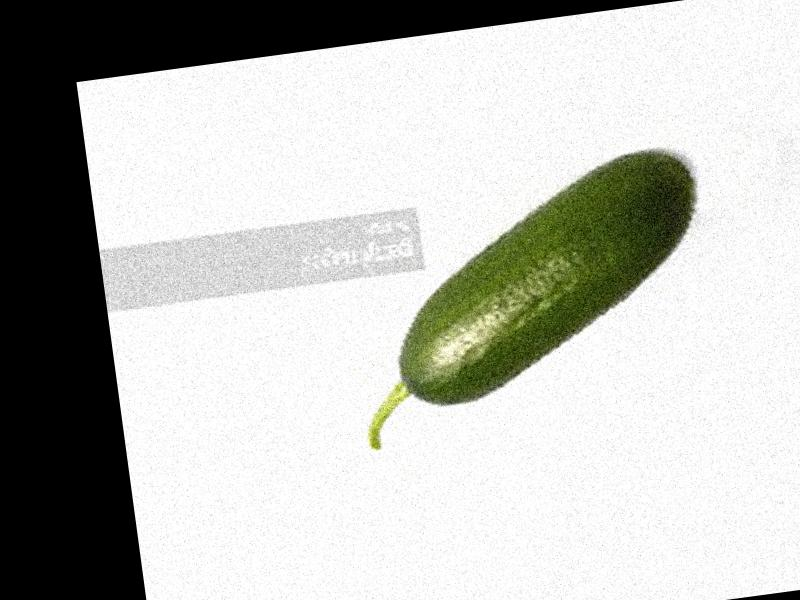Cucumber: (328, 143, 719, 448)
